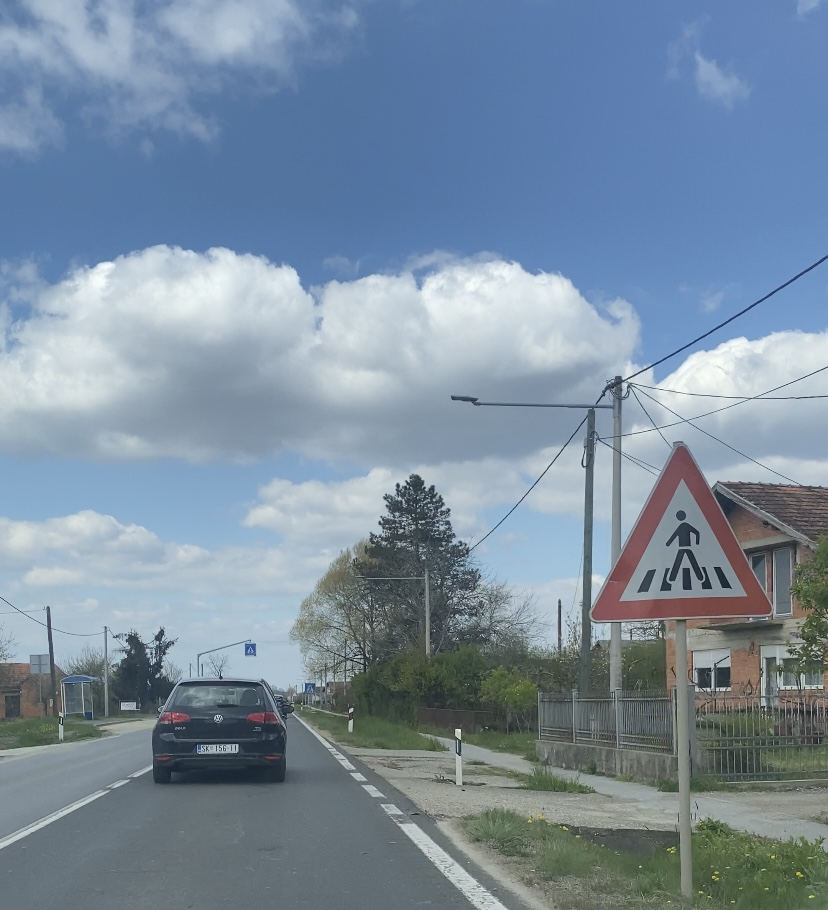Pješački prijelaz: (245, 644, 256, 655), (305, 684, 315, 693)
Približavanje pješačkom prijelazu: (589, 443, 775, 622)
